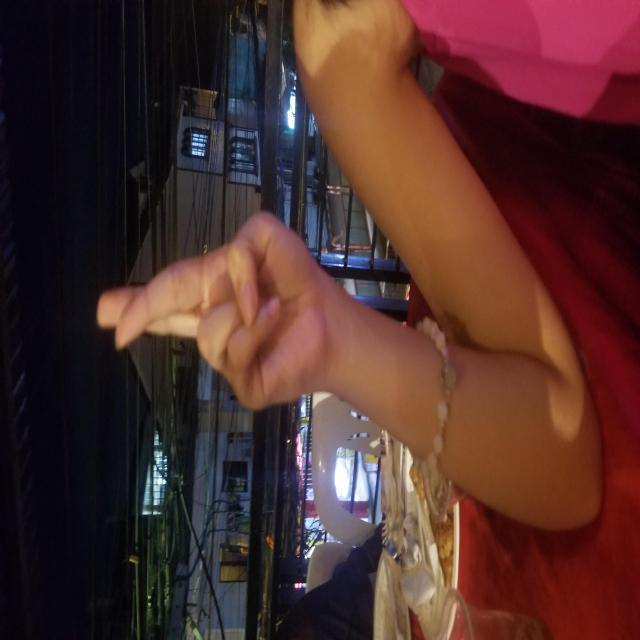R: (228, 97, 429, 323)
